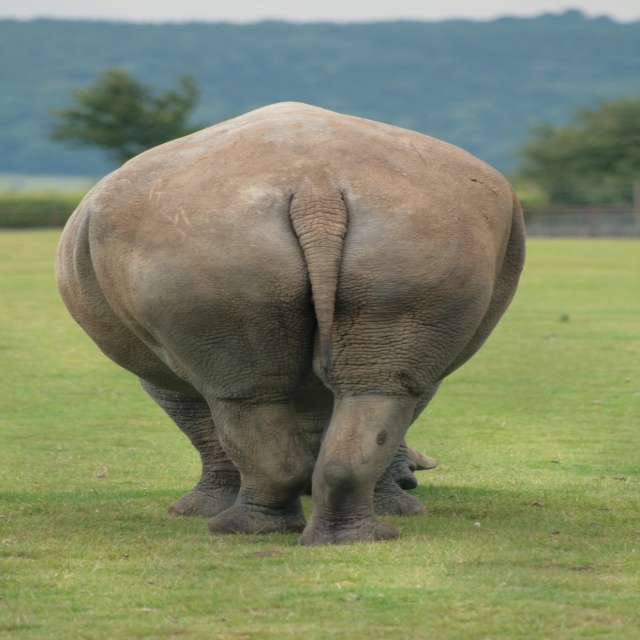Rhinoceros: (49, 96, 544, 544)
